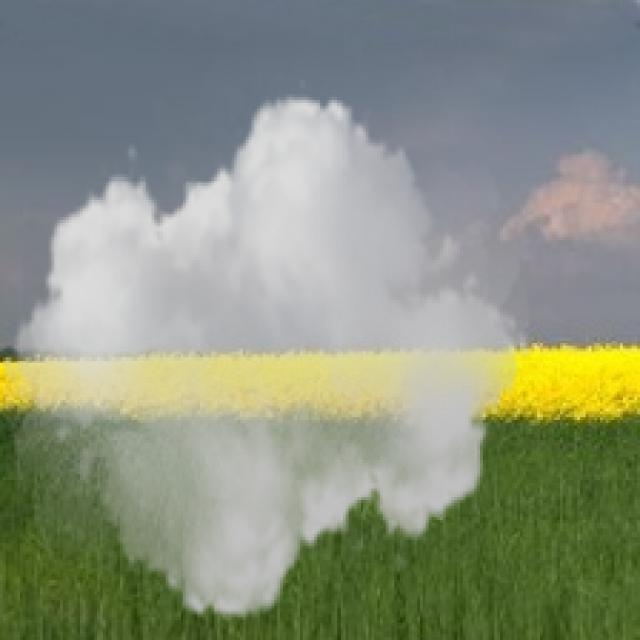Smoke: (2, 74, 534, 637)
